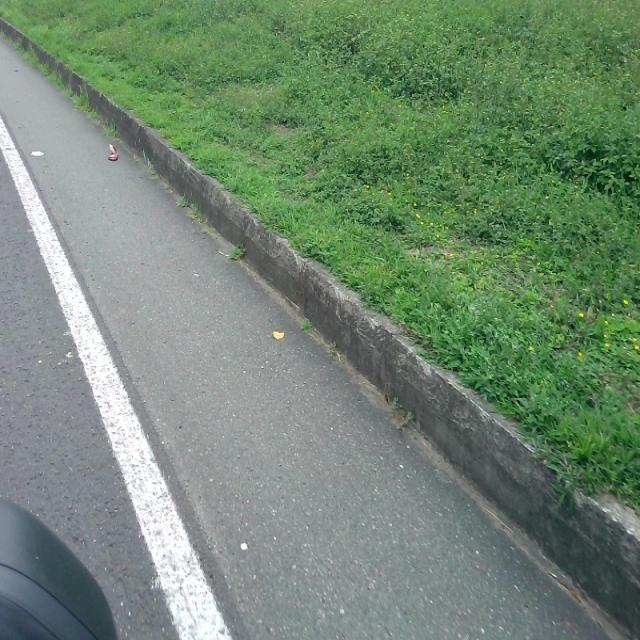DITCH: (1, 19, 638, 638)
